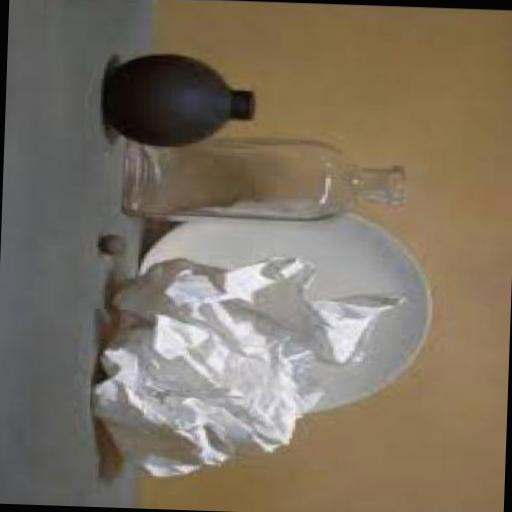glass: (123, 134, 410, 232)
paper: (89, 254, 417, 486)
